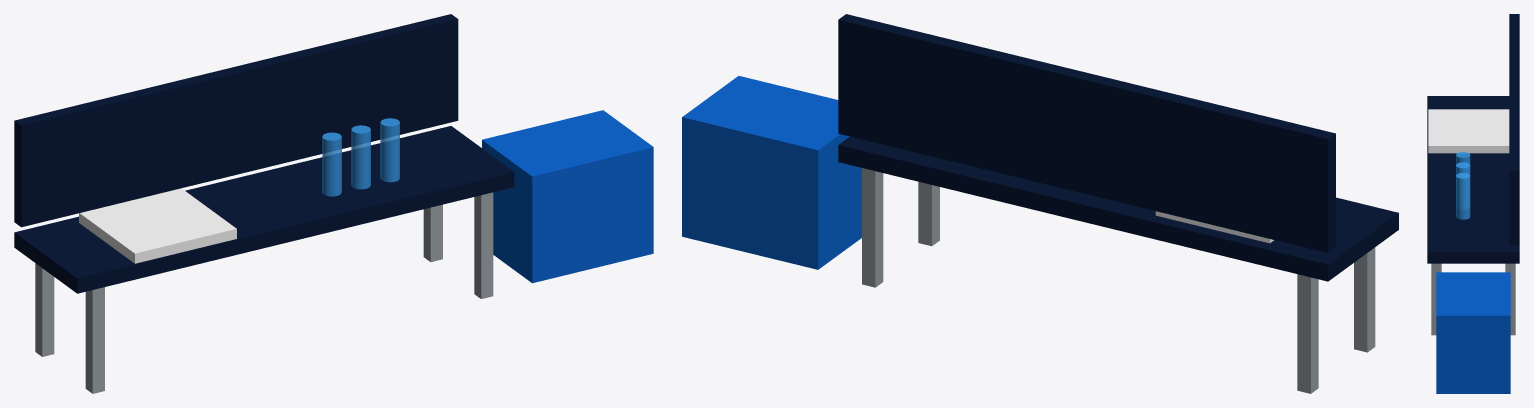
Rendered from bench.glb.
3 renders of one model, left to right at view 1: azimuth 30°, elevation 25°; view 2: azimuth 150°, elevation 25°; view 3: azimuth 270°, elevation 25°, orthographic. The views are drawn at different scales.
Visible parts, largest first — view 1: seat, cooler, towel, legs, bottles; view 2: seat, cooler, legs; view 3: seat, cooler, towel, bottles, legs.
Boxes of the visible parts, x1,y1,x2,y2 form: seat: (14, 14, 514, 293); cooler: (482, 110, 653, 283); towel: (79, 188, 236, 263); legs: (35, 192, 493, 393); bottles: (322, 118, 399, 196); seat: (838, 14, 1398, 281); cooler: (682, 76, 861, 269); legs: (862, 168, 1375, 393); seat: (1427, 14, 1519, 263); cooler: (1436, 272, 1510, 393); towel: (1428, 109, 1509, 153); bottles: (1456, 152, 1470, 219); legs: (1431, 263, 1515, 335).
Size of the model in its own units: 2.4 by 0.92 by 0.45.
